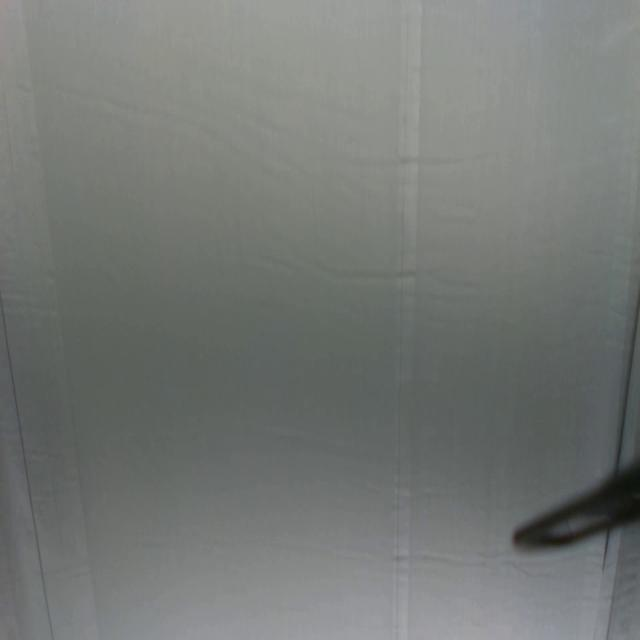crease: (390, 0, 424, 638), (0, 293, 55, 640), (617, 293, 640, 464), (607, 528, 623, 640), (601, 533, 614, 576)
